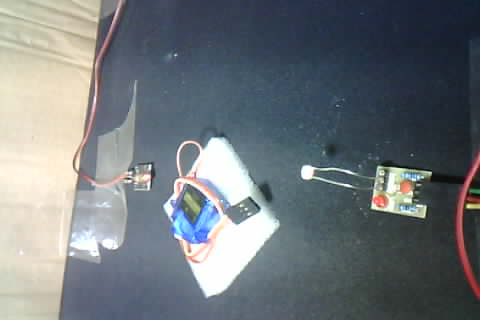motor: (161, 133, 271, 290)
